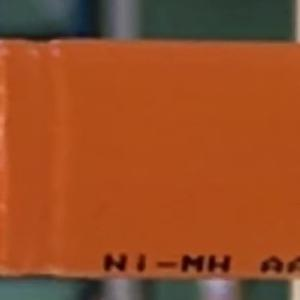NI-MH: (94, 245, 240, 282)
